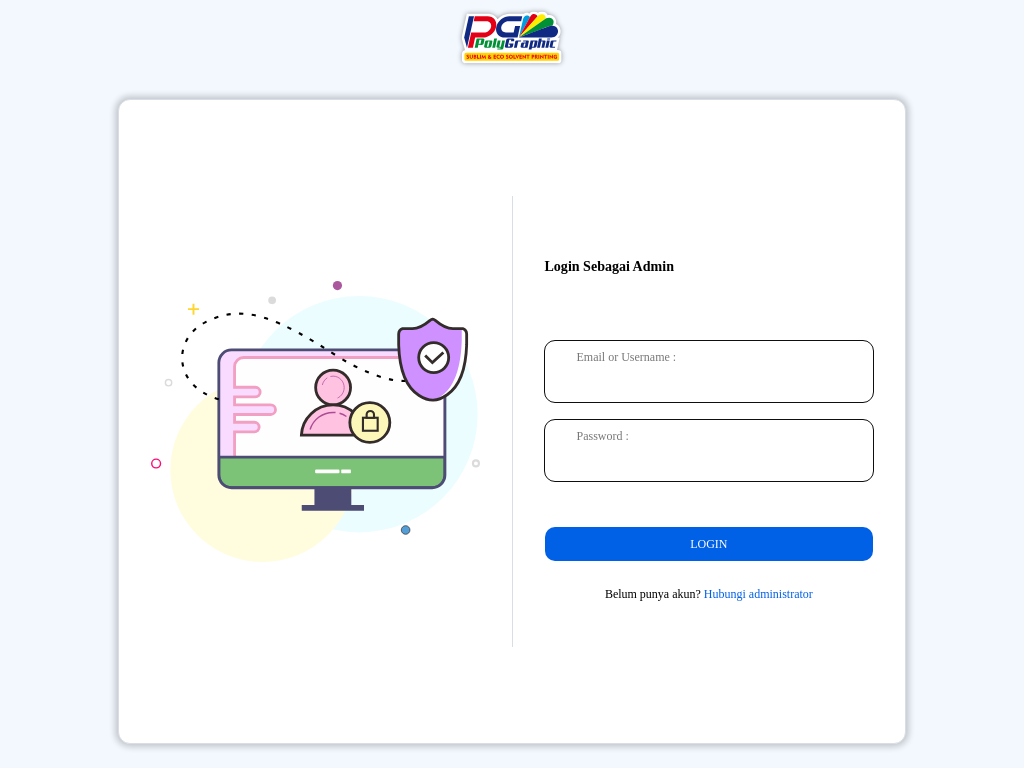
Test: Form submit data correctly › Show success message on login
Type "johndoe" into the field labelled "Email or Username :" at point(709, 371), box [544,340,873,402]
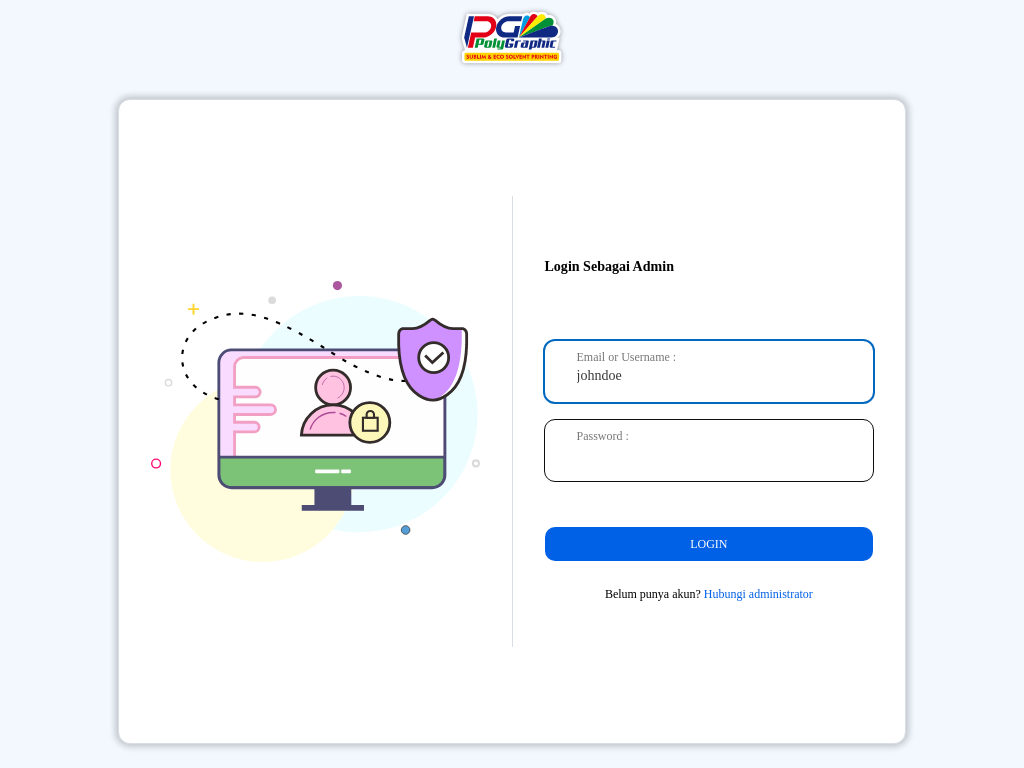
Type "johndoe123" into the password field labelled "Password :" at point(709, 450), box [544,420,873,480]
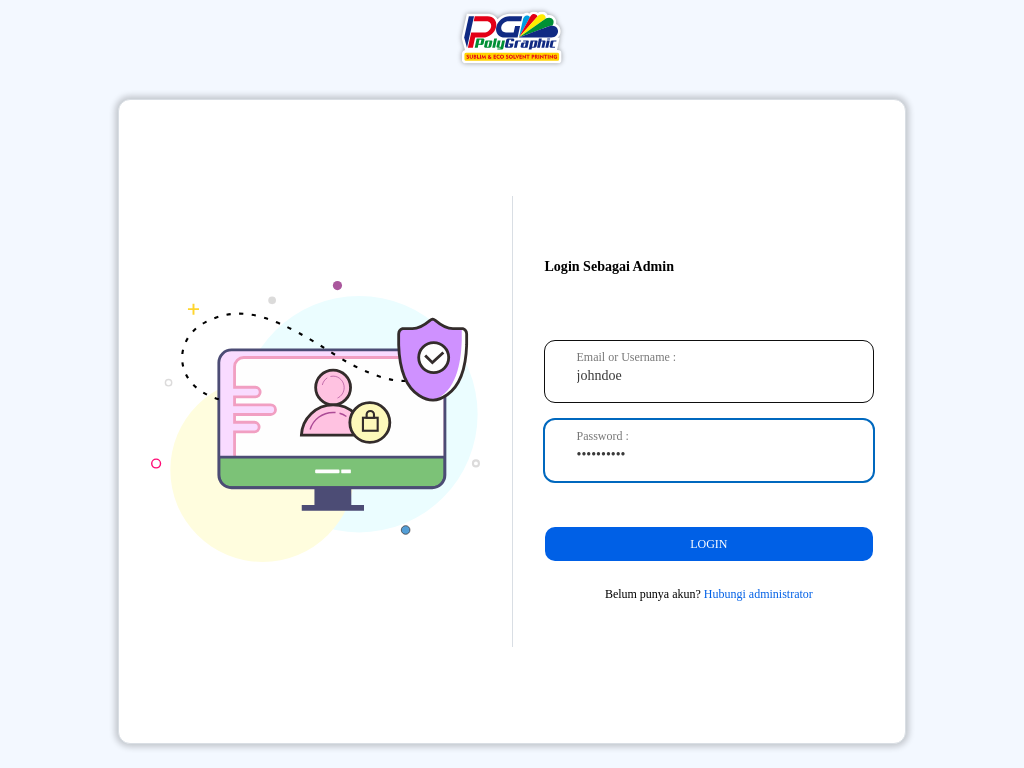
Click the button "LOGIN" at point(709, 544), box [544,526,873,560]
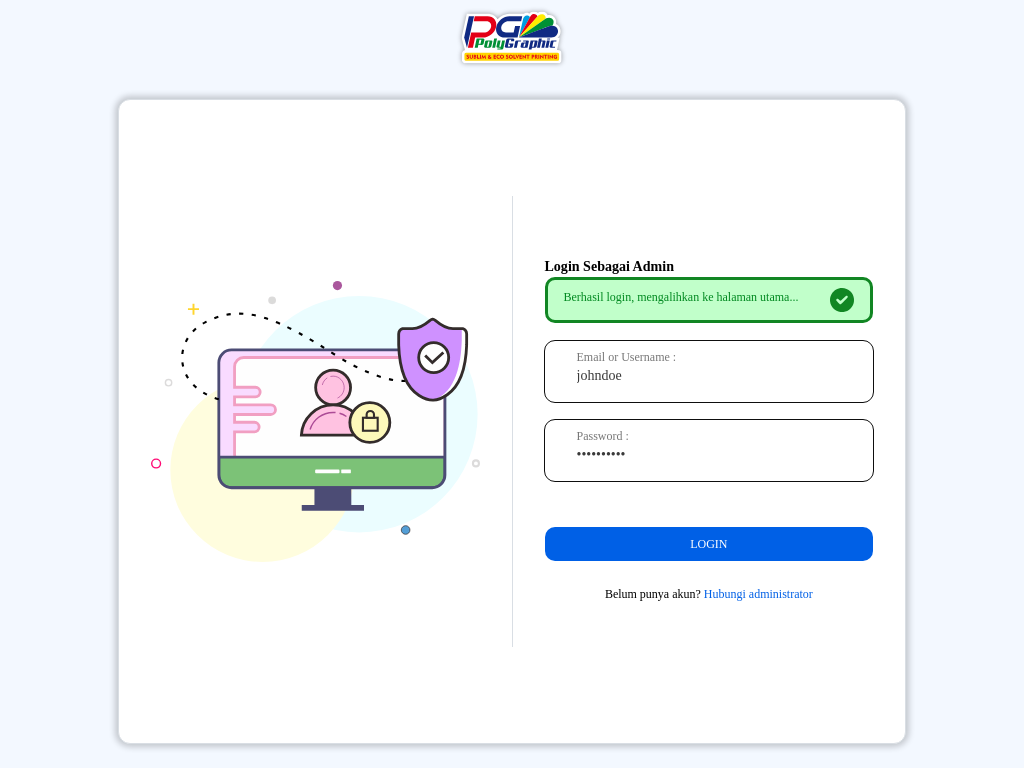
Expected: the text "Berhasil login, mengalihkan ke halaman utama" is shown, [564,290,798,304]
